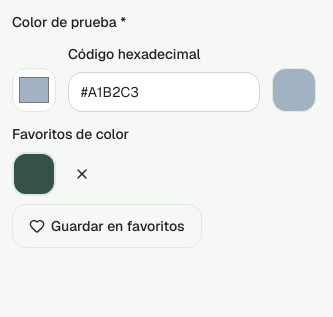
Test: ColorPicker › keeps the controlled draft after a failed favorite save and exposes retry
What coordinates should you click on to do the following:
click the button "Guardar en favoritos"
I would click on:
 (107, 226)
Its box is [12,204,202,248].
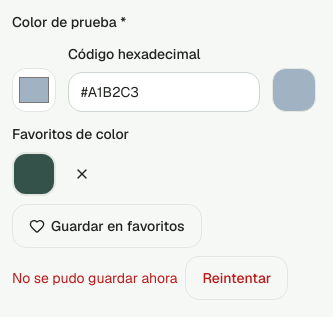
Now the text "No se pudo guardar ahora" is shown, box [12,268,177,288]
Now the button with aria-label "Reintentar guardar favorito" is shown, box [185,256,288,300]
